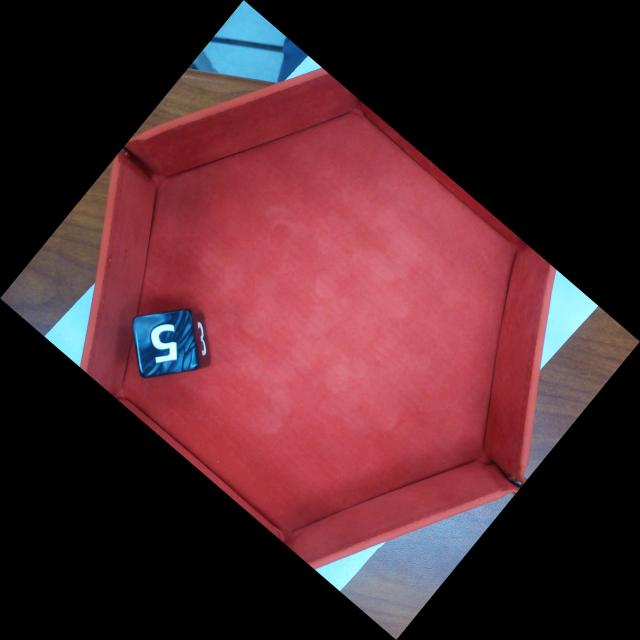dice: (135, 309, 199, 376)
